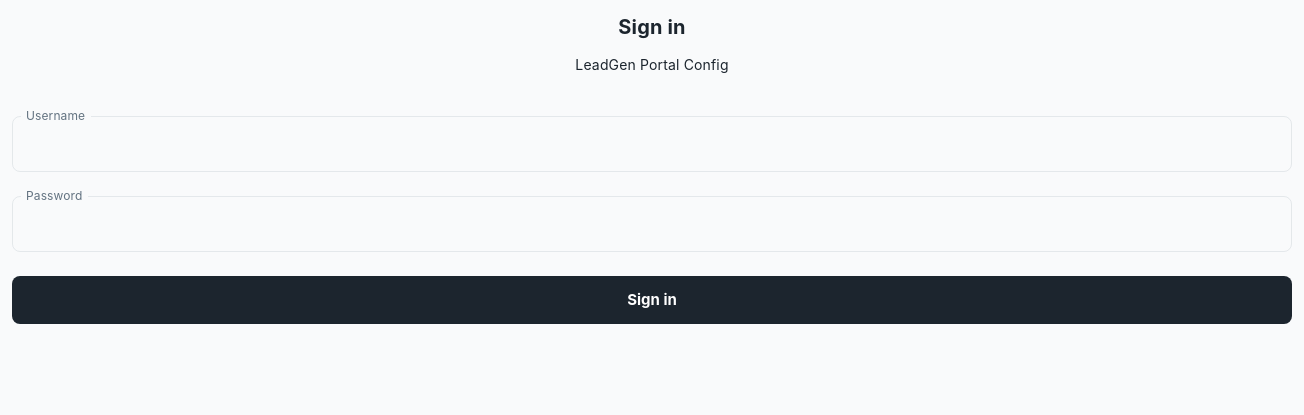
Test: SignInView › surfaces the portal message for any other failure
Type "root" into the field labelled "Username".
click(652, 144); type("root")  # box [12,116,1292,172]
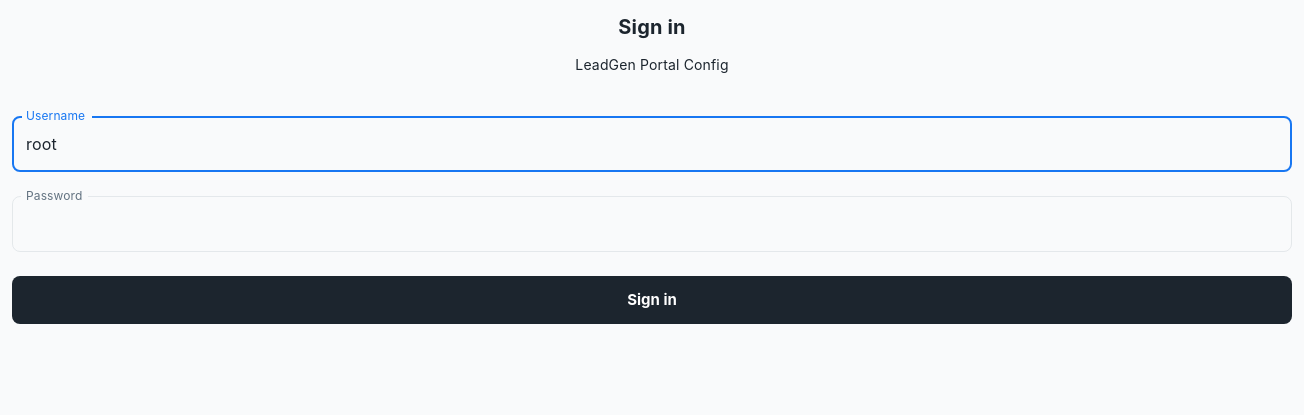
Type "secret" into the password field labelled "Password".
click(629, 224); type("secret")  # box [12,196,1246,252]
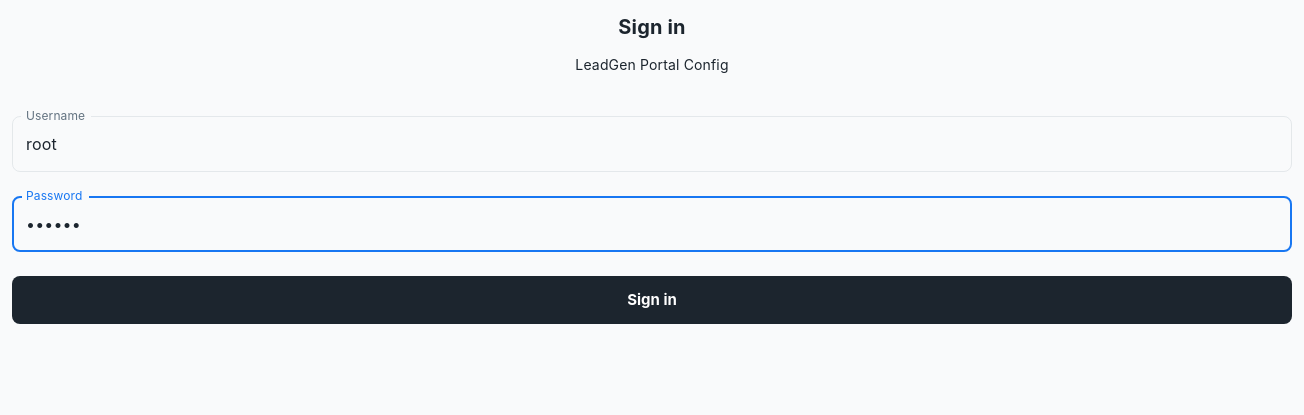
Click the button "Sign in".
click(652, 300)  # box [12,276,1292,324]
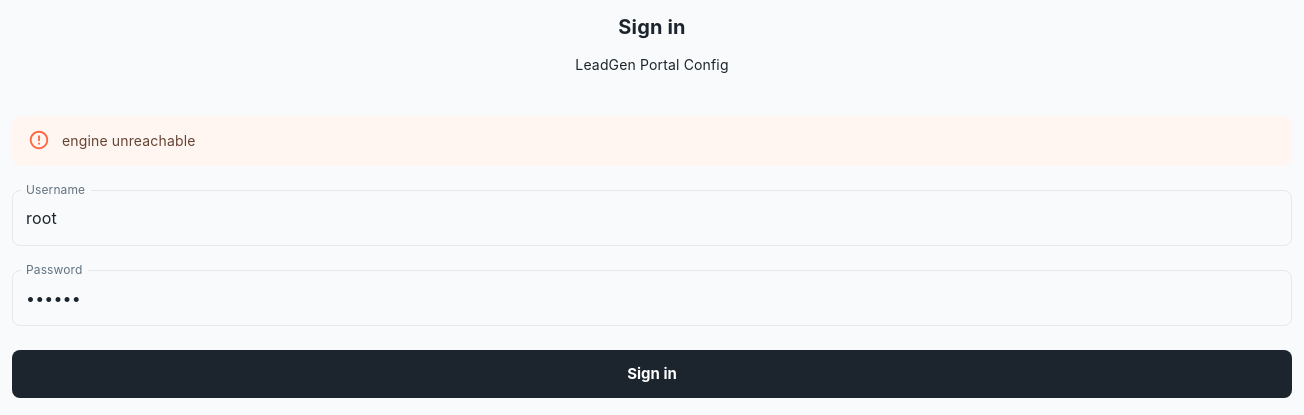
Result: the text "engine unreachable" is shown at [62,132,196,149]
